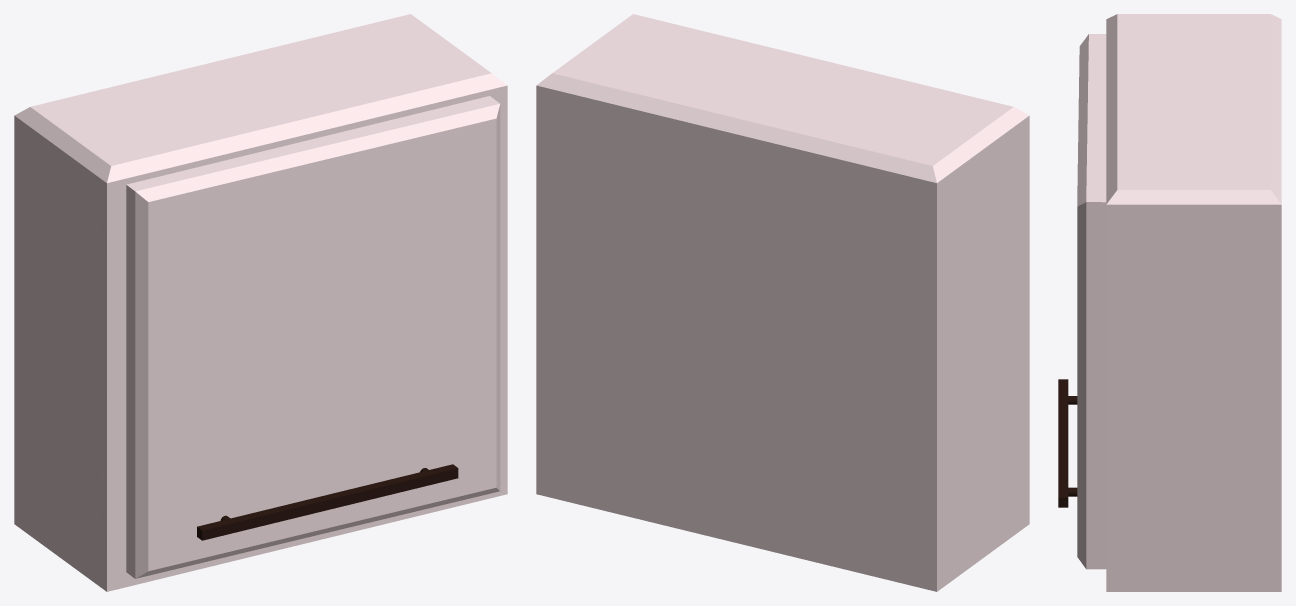
Rendered from oDIOOOOOOO.fbx.
3 views of the same model, side by side, from view 1: azimuth 30°, elevation 25°; view 2: azimuth 150°, elevation 25°; view 3: azimuth 270°, elevation 25° (orthographic). The views are drawn at different scales.
Parts seen in each view (by area): view 1: Sphere.001, kitchencabinet, Cube; view 2: kitchencabinet; view 3: kitchencabinet, Sphere.001, Cube.
Boxes of the visible parts, x1=… form: Sphere.001: x1=126, y1=96, x2=500, y2=578; kitchencabinet: x1=14, y1=14, x2=507, y2=591; Cube: x1=197, y1=464, x2=458, y2=540; kitchencabinet: x1=536, y1=14, x2=1029, y2=591; kitchencabinet: x1=1106, y1=14, x2=1281, y2=591; Sphere.001: x1=1077, y1=34, x2=1106, y2=569; Cube: x1=1058, y1=379, x2=1068, y2=507.
Bounding box in the file's own units: 200 × 200 × 102.
